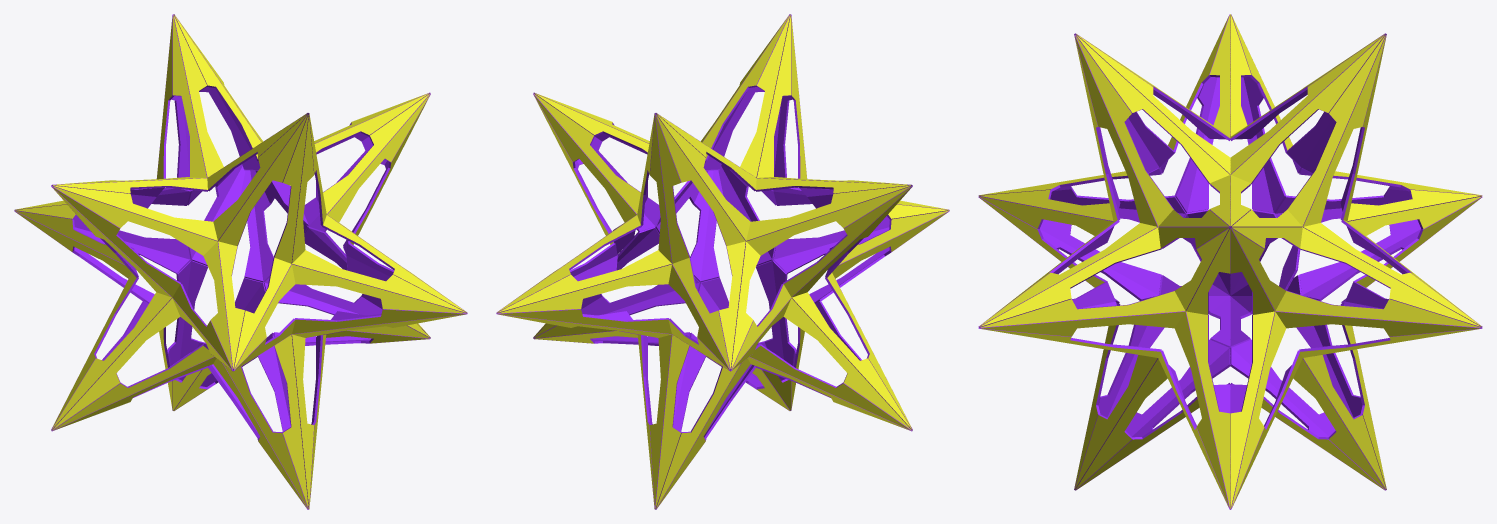
File: SmallDitrigonalDodecacronicHexecontahedronS1.glb
3 views of the same model, side by side, from view 1: azimuth 30°, elevation 25°; view 2: azimuth 150°, elevation 25°; view 3: azimuth 270°, elevation 25° (orthographic). The views are drawn at different scales.
Visible parts, largest first — view 1: root; view 2: root; view 3: root.
Part boxes in pixels (<box>): root: <box>14,14,467,509</box>; root: <box>496,14,949,509</box>; root: <box>978,14,1482,509</box>.
Bounding box in the file's own units: 9.44 × 9.44 × 9.44.
